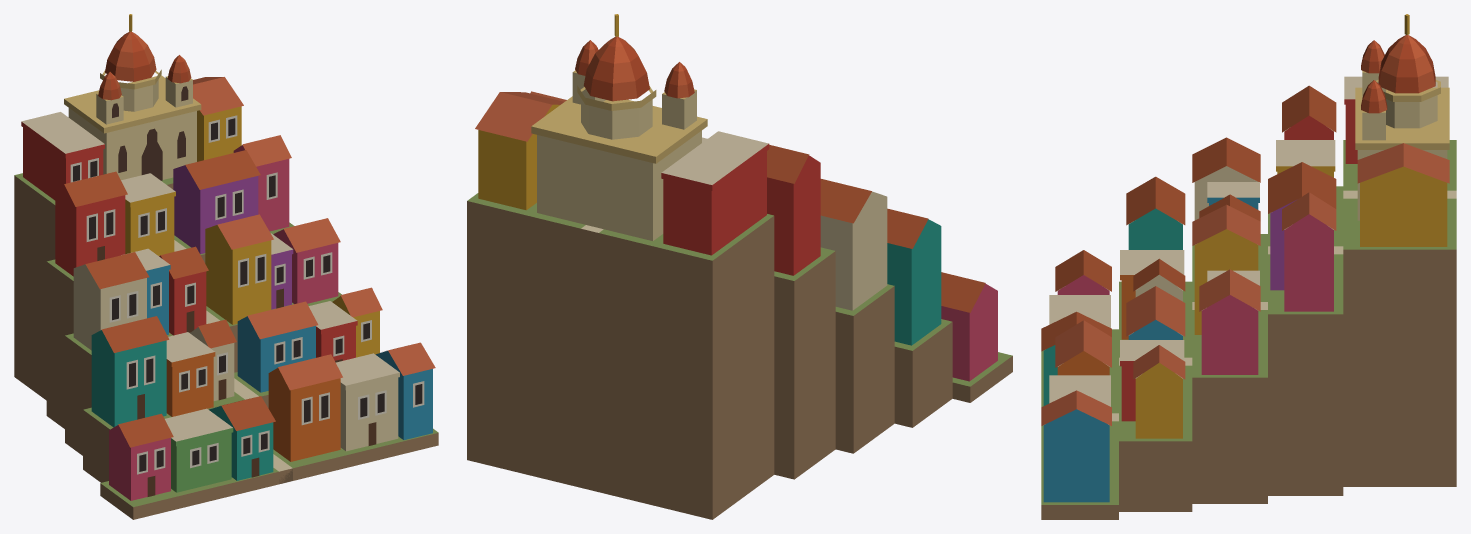
Rendered from maisonsColorees2.glb.
The picture shows the model from 3 angles, left to right: view 1: azimuth 30°, elevation 25°; view 2: azimuth 150°, elevation 25°; view 3: azimuth 270°, elevation 25°; orthographic projection. The views are drawn at different scales.
Parts seen in each view (by area): view 1: maisonsColorees2; view 2: maisonsColorees2; view 3: maisonsColorees2.
Boxes of the visible parts, <box> form: maisonsColorees2: <box>14,14,438,519</box>; maisonsColorees2: <box>467,14,1012,519</box>; maisonsColorees2: <box>1041,14,1456,519</box>.
Bounding box in the file's own units: 1.76 × 1.95 × 1.76.
